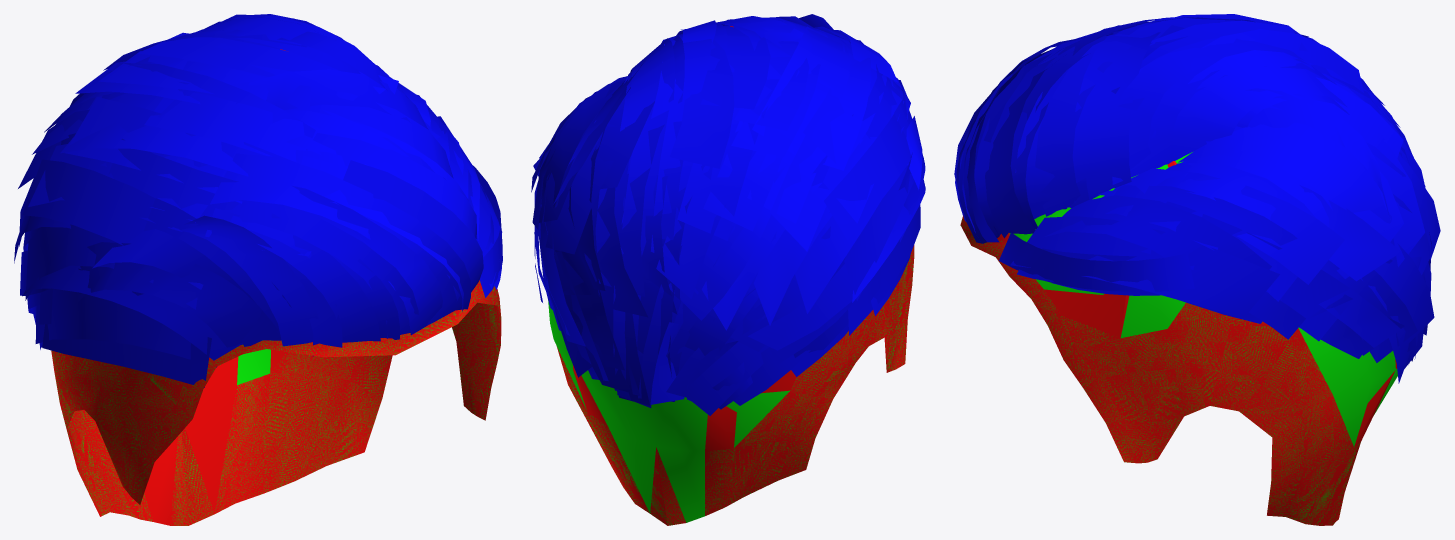
File: hair_011.obj
The picture shows the model from 3 angles, left to right: view 1: azimuth 30°, elevation 25°; view 2: azimuth 150°, elevation 25°; view 3: azimuth 270°, elevation 25°; orthographic projection. The views are drawn at different scales.
Size of the model in its own units: 18.62 by 23.32 by 21.33.
